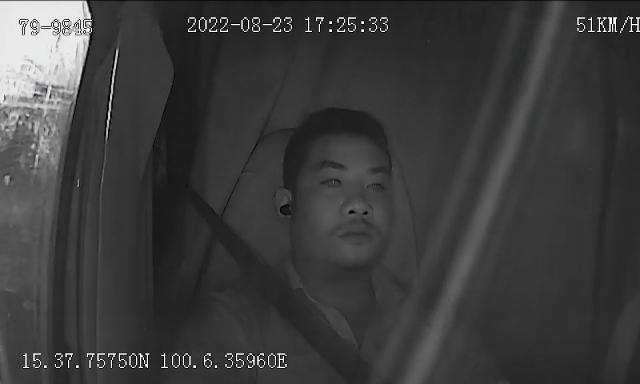SafeDriving: (268, 188, 303, 227), (315, 165, 349, 196), (361, 168, 394, 198)
Seatbelt: (186, 184, 377, 384)
